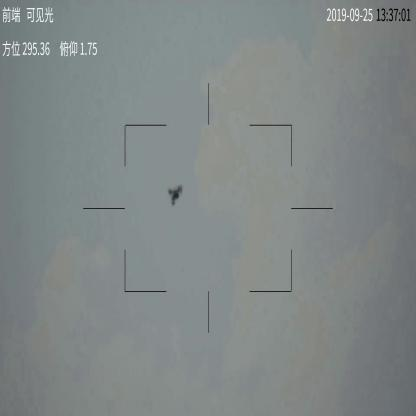uav: (167, 183, 183, 209)
